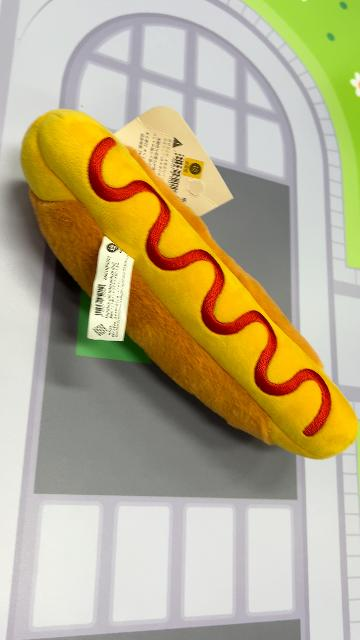hotdog: (20, 109, 358, 462)
